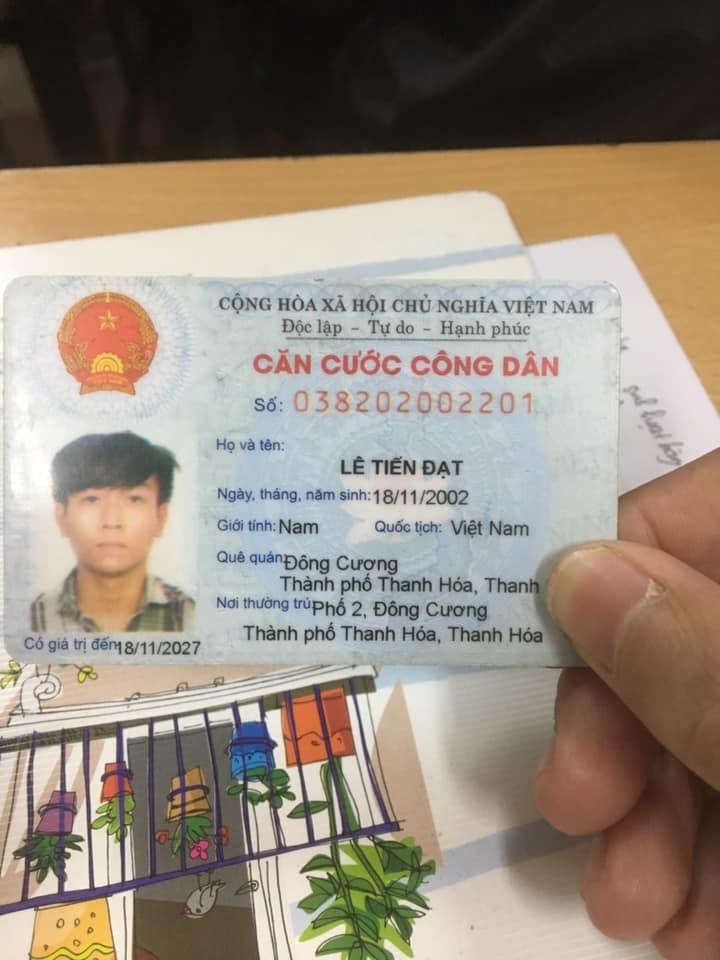bottom_left: (1, 635, 26, 672)
image_person: (31, 422, 204, 636)
top_left: (0, 272, 22, 306)
top_right: (598, 274, 626, 308)
